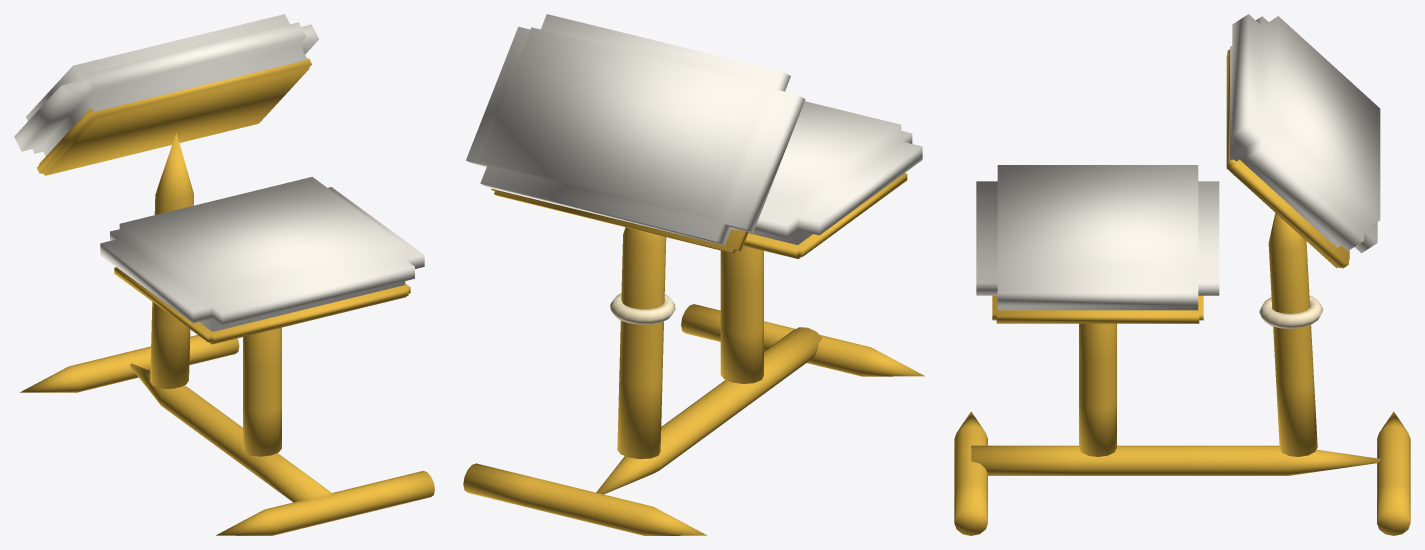
File: GoldenBench.glb
The picture shows the model from 3 angles, left to right: view 1: azimuth 30°, elevation 25°; view 2: azimuth 150°, elevation 25°; view 3: azimuth 270°, elevation 25°; orthographic projection. The views are drawn at different scales.
Parts seen in each view (by area): view 1: GoldenBench; view 2: GoldenBench; view 3: GoldenBench.
Part boxes in pixels (x1,y1,x2,y2): GoldenBench: [14, 14, 434, 535]; GoldenBench: [463, 14, 924, 535]; GoldenBench: [954, 14, 1410, 535].
Bounding box in the file's own units: 2.14 × 3.11 × 3.13.
1 material, 1 textured.
